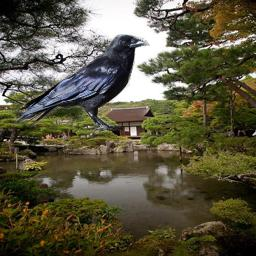Crow: (14, 31, 150, 136)
